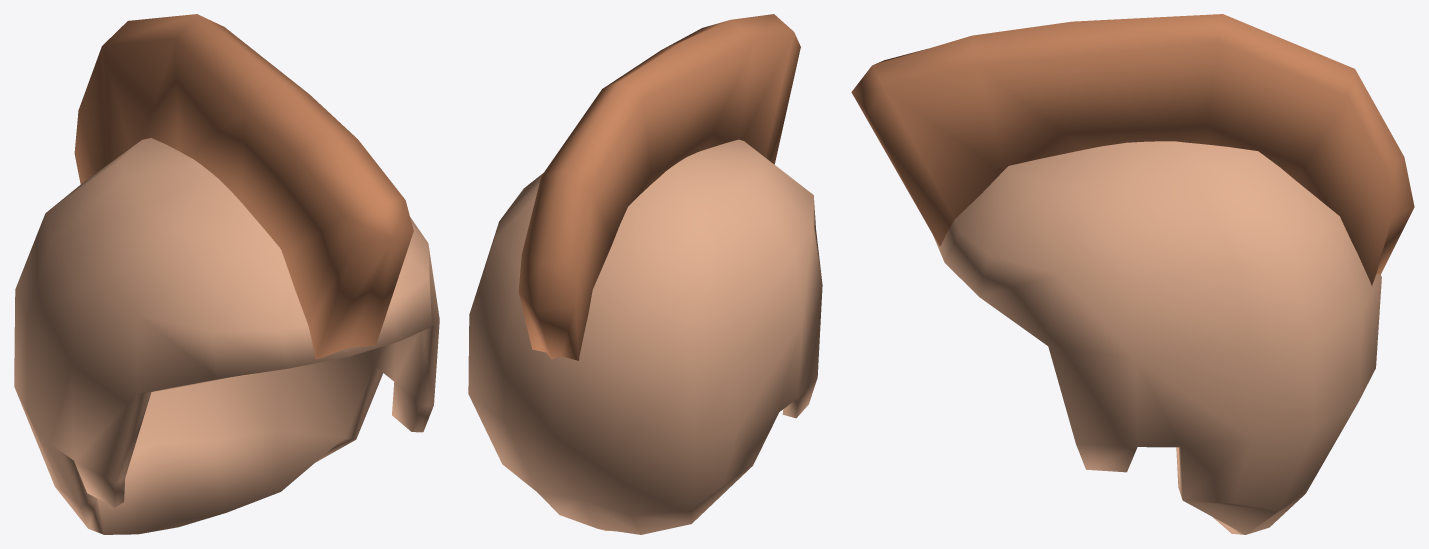
File: Mohawk.fbx
The picture shows the model from 3 angles, left to right: view 1: azimuth 30°, elevation 25°; view 2: azimuth 150°, elevation 25°; view 3: azimuth 270°, elevation 25°; orthographic projection. The views are drawn at different scales.
Parts seen in each view (by area): view 1: 03 Hair - Mohawk; view 2: 03 Hair - Mohawk; view 3: 03 Hair - Mohawk.
Boxes of the visible parts, left/top/right/bottom form: 03 Hair - Mohawk: left=14, top=14, right=439, bottom=534; 03 Hair - Mohawk: left=468, top=14, right=822, bottom=534; 03 Hair - Mohawk: left=851, top=14, right=1414, bottom=534.
Bounding box in the file's own units: 0.2147 × 0.3137 × 0.3192.
